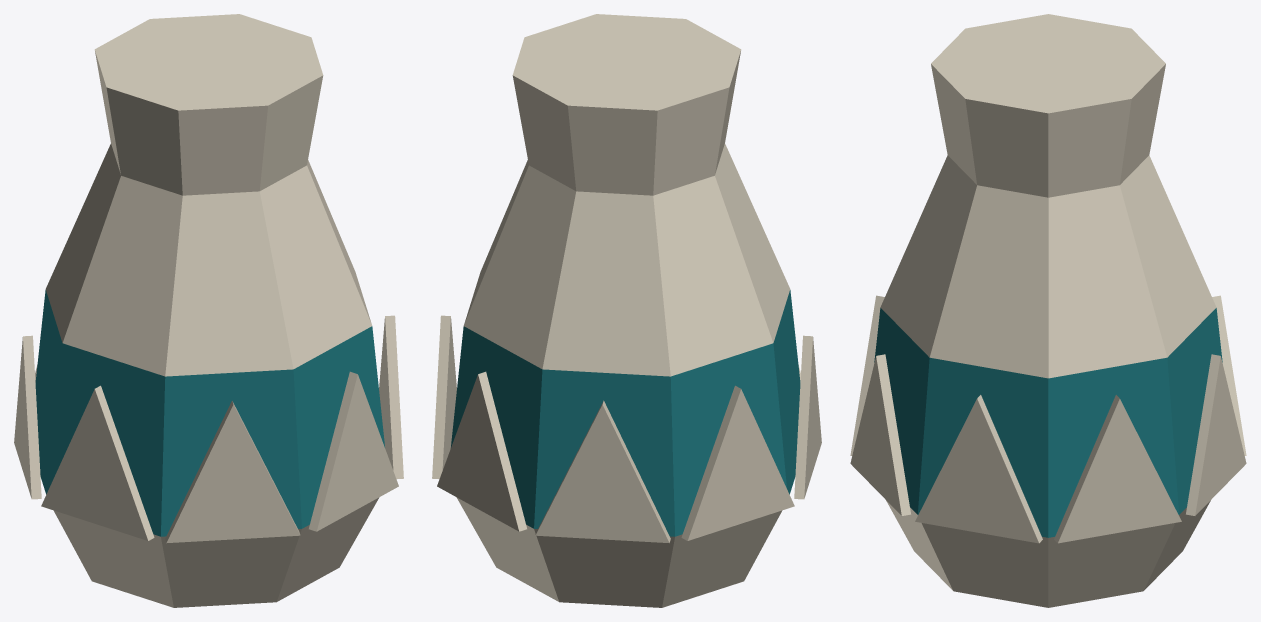
Rendered from small_vase.glb.
The picture shows the model from 3 angles, left to right: view 1: azimuth 30°, elevation 25°; view 2: azimuth 150°, elevation 25°; view 3: azimuth 270°, elevation 25°; orthographic projection.
Visible parts, largest first — view 1: small_vase; view 2: small_vase; view 3: small_vase.
Part boxes in pixels (box(x1,y1,x2,y2)): small_vase: box(14, 14, 403, 607); small_vase: box(432, 14, 821, 607); small_vase: box(850, 14, 1246, 607).
Size of the model in its own units: 0.1179 by 0.16 by 0.1179.
